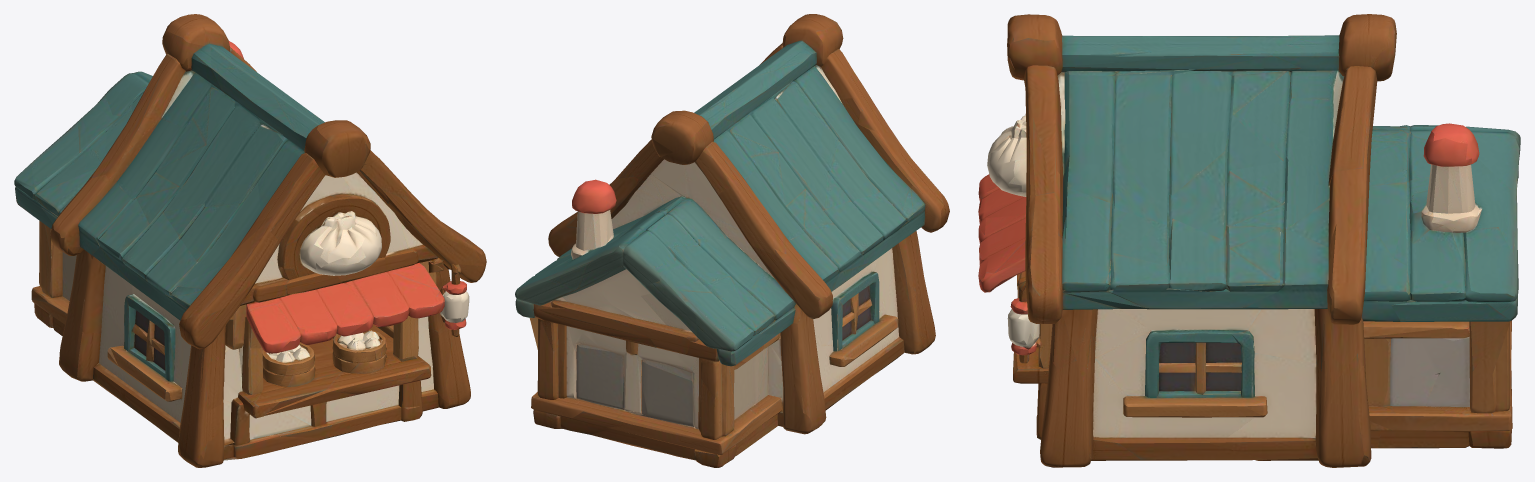
Rendered from dumplingShop.glb.
3 renders of one model, left to right at view 1: azimuth 30°, elevation 25°; view 2: azimuth 150°, elevation 25°; view 3: azimuth 270°, elevation 25°, orthographic. The views are drawn at different scales.
Visible parts, largest first — view 1: Mesh_0; view 2: Mesh_0; view 3: Mesh_0.
Part boxes in pixels (x1,y1,x2,y2): Mesh_0: (14,14,486,467); Mesh_0: (515,14,949,467); Mesh_0: (978,14,1520,467).
Bounding box in the file's own units: 1.96 × 1.98 × 2.6.
1 material, 1 textured.
